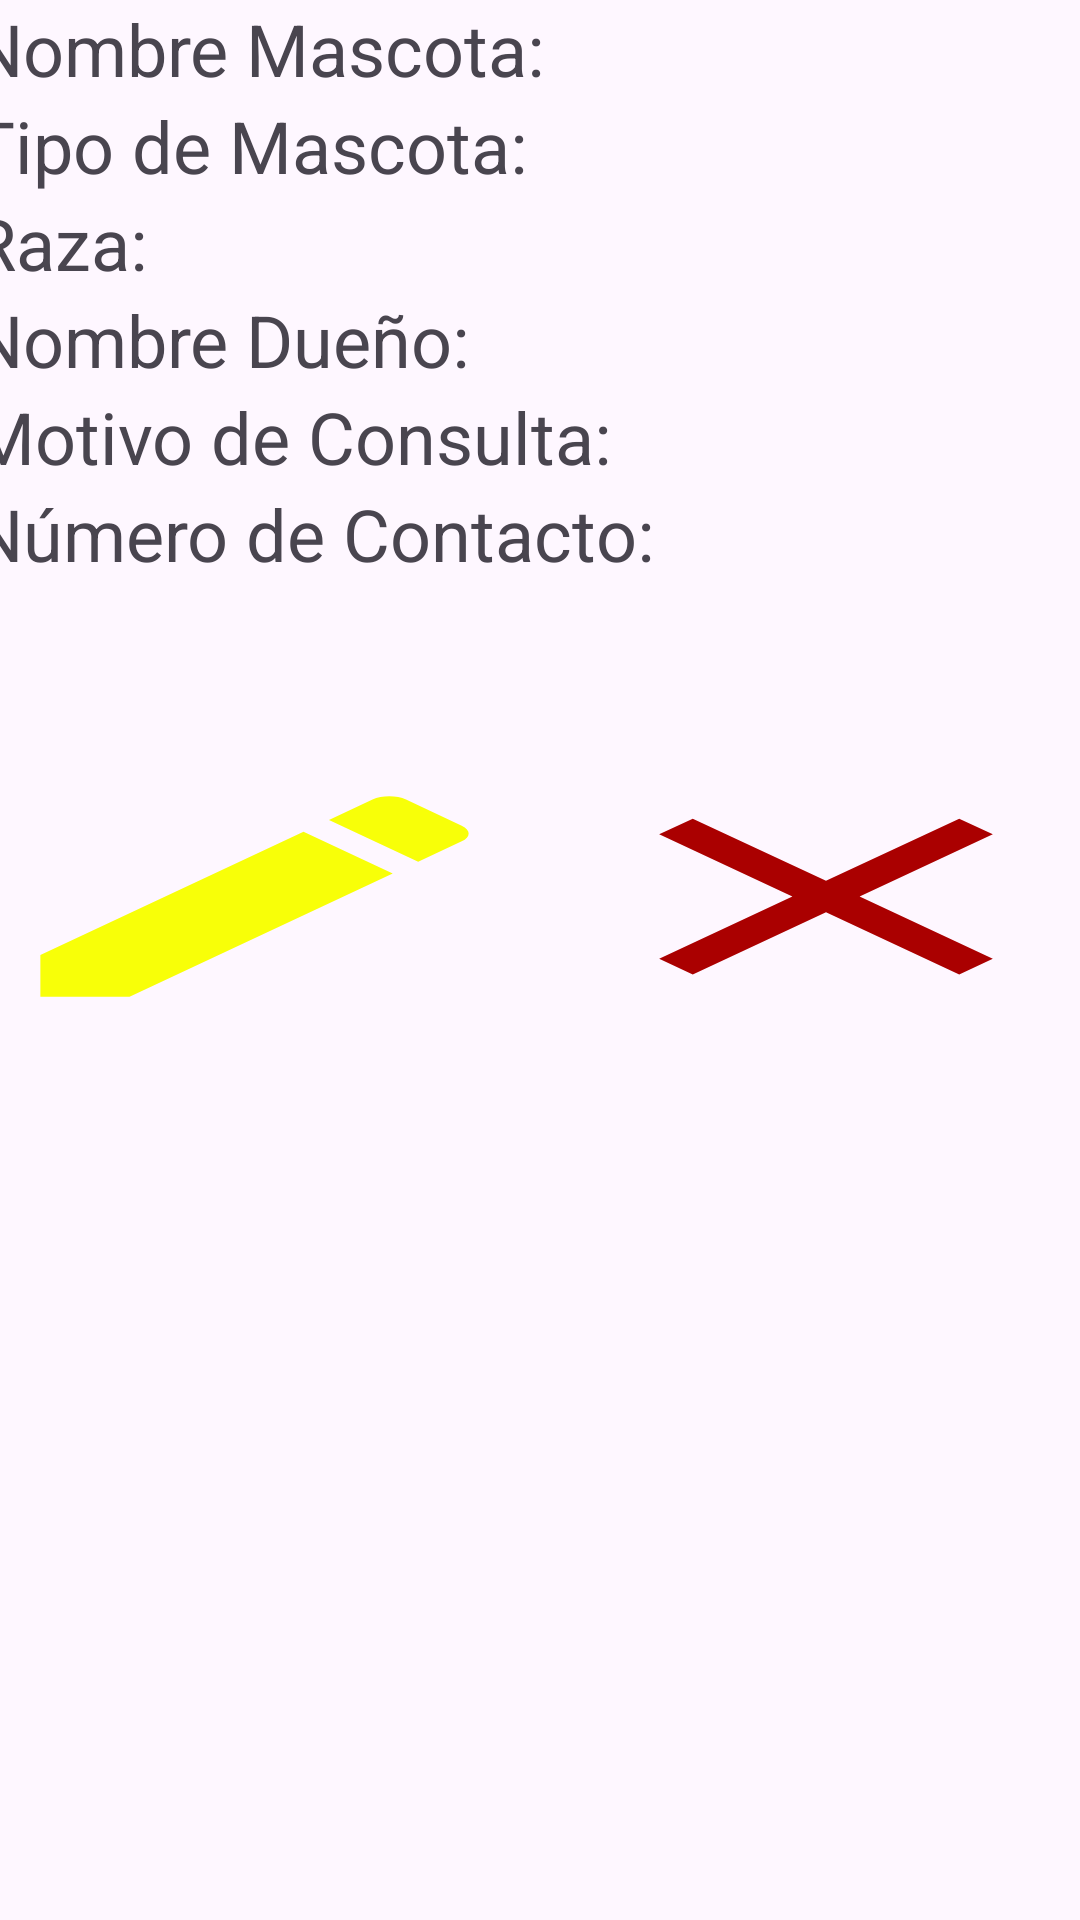

Icons on this 1080*1920 Android screen, each with the point to tap as [x,y]:
eliminar: [826,896]
